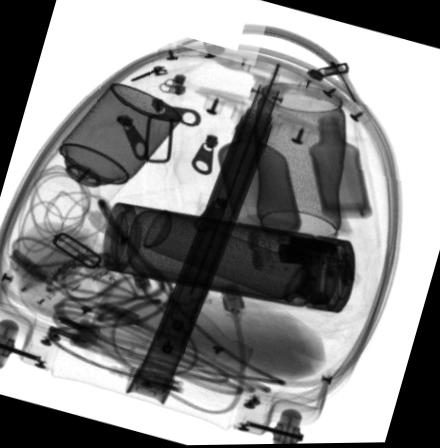Sprayer: (41, 81, 181, 208)
